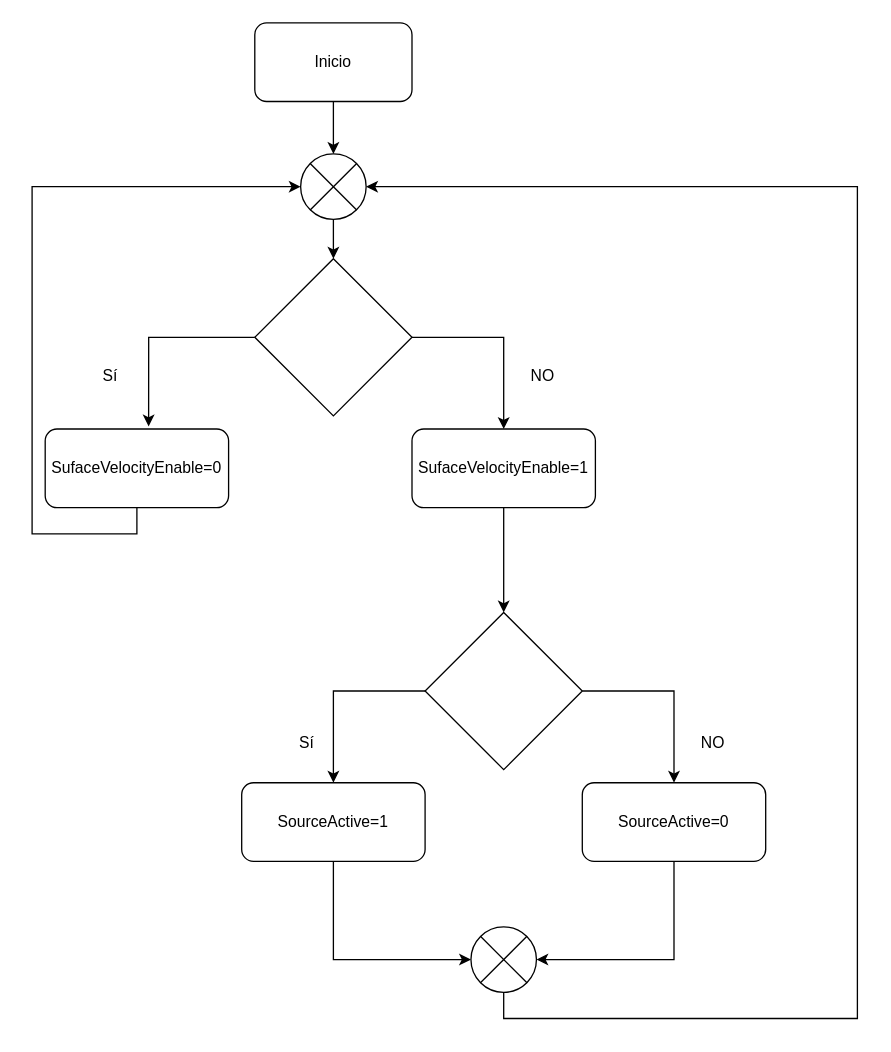
Image size: 891x1052. Some labels were removed from this diagram. The shapes that lost their labels are listed below. From the top down, each one's box as (x1, y1, x2, y2) in pixels, then its label:
(253, 257, 412, 416): Sensor de línea 1 activo
(424, 611, 582, 770): Sensor de línea 2 activo
